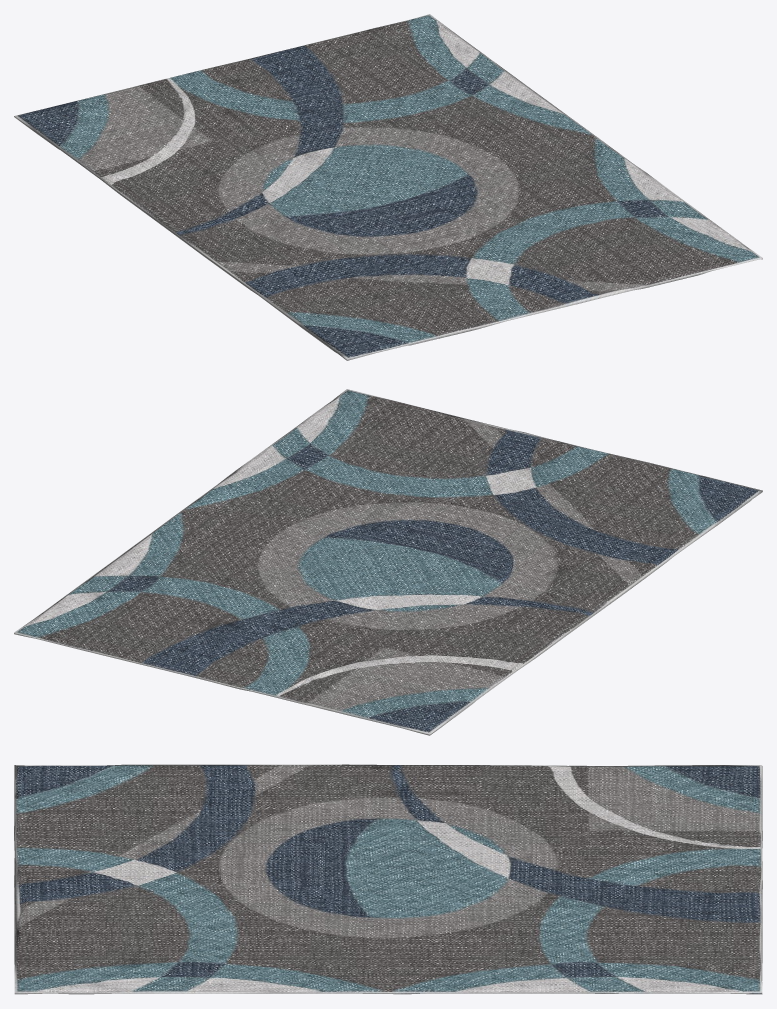
The model's file is textileDecor_rug_a01.glb.
3 views of the same model, one above another, from view 1: azimuth 30°, elevation 25°; view 2: azimuth 150°, elevation 25°; view 3: azimuth 270°, elevation 25° (orthographic). The views are drawn at different scales.
Parts seen in each view (by area): view 1: sm_textileDecor_rug_a01_01; view 2: sm_textileDecor_rug_a01_01; view 3: sm_textileDecor_rug_a01_01.
Part boxes in pixels (x1,y1,x2,y2): sm_textileDecor_rug_a01_01: (14,14,762,360); sm_textileDecor_rug_a01_01: (14,389,762,735); sm_textileDecor_rug_a01_01: (14,764,762,994).
Size of the model in its own units: 0.7756 by 0.00782 by 1.08.
1 material, 1 textured.
